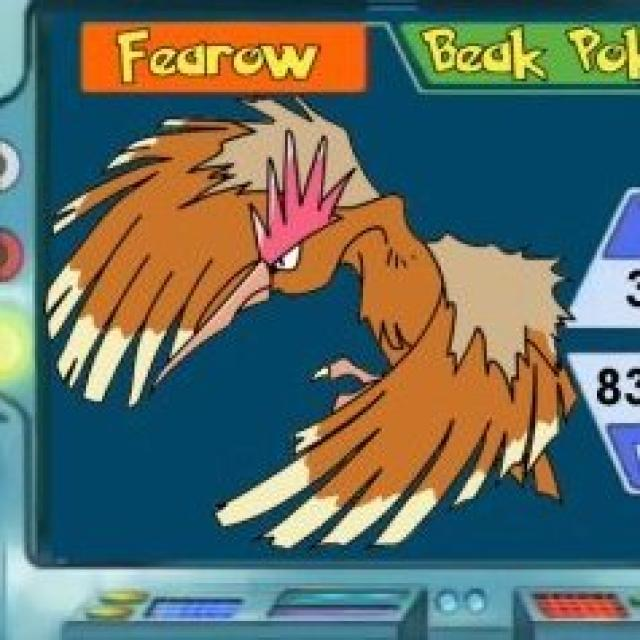Fearow: (50, 91, 581, 556)
